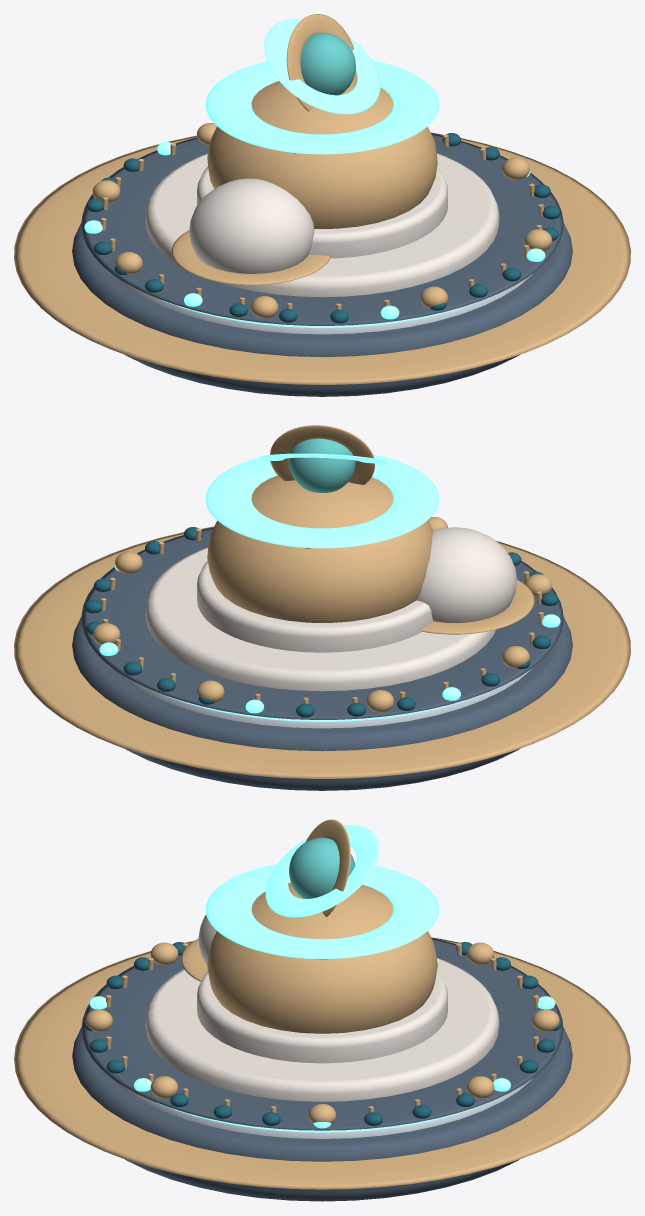
The model's file is central_hull.glb.
3 views of the same model, one above another, from view 1: azimuth 30°, elevation 25°; view 2: azimuth 150°, elevation 25°; view 3: azimuth 270°, elevation 25° (orthographic).
Visible parts, largest first — view 1: DISPLAY_02_03_•_Champagne_bronze, DISPLAY_03_04_•_Graphite_titanium, DISPLAY_04_02_•_Pearl_ivory, DISPLAY_01_11_•_Ion_emission_blue, DISPLAY_06_13_•_Cockpit_obsidian, DISPLAY_00_08_•_Jade_enamel, DISPLAY_05_01_•_Porcelain_silver; view 2: DISPLAY_02_03_•_Champagne_bronze, DISPLAY_03_04_•_Graphite_titanium, DISPLAY_04_02_•_Pearl_ivory, DISPLAY_01_11_•_Ion_emission_blue, DISPLAY_06_13_•_Cockpit_obsidian, DISPLAY_00_08_•_Jade_enamel, DISPLAY_05_01_•_Porcelain_silver; view 3: DISPLAY_02_03_•_Champagne_bronze, DISPLAY_03_04_•_Graphite_titanium, DISPLAY_04_02_•_Pearl_ivory, DISPLAY_01_11_•_Ion_emission_blue, DISPLAY_06_13_•_Cockpit_obsidian, DISPLAY_05_01_•_Porcelain_silver, DISPLAY_00_08_•_Jade_enamel.
Part boxes in pixels (x1,y1,x2,y2): DISPLAY_02_03_•_Champagne_bronze: (14,14,630,384); DISPLAY_03_04_•_Graphite_titanium: (72,133,572,396); DISPLAY_04_02_•_Pearl_ivory: (145,153,499,297); DISPLAY_01_11_•_Ion_emission_blue: (84,18,545,327); DISPLAY_06_13_•_Cockpit_obsidian: (86,133,560,323); DISPLAY_00_08_•_Jade_enamel: (300,33,355,95); DISPLAY_05_01_•_Porcelain_silver: (112,274,532,334); DISPLAY_02_03_•_Champagne_bronze: (14,425,630,778); DISPLAY_03_04_•_Graphite_titanium: (72,527,572,790); DISPLAY_04_02_•_Pearl_ivory: (145,527,516,691); DISPLAY_01_11_•_Ion_emission_blue: (99,453,560,721); DISPLAY_06_13_•_Cockpit_obsidian: (84,527,558,717); DISPLAY_00_08_•_Jade_enamel: (289,438,355,492); DISPLAY_05_01_•_Porcelain_silver: (112,668,532,728); DISPLAY_02_03_•_Champagne_bronze: (14,819,630,1189); DISPLAY_03_04_•_Graphite_titanium: (72,938,572,1201); DISPLAY_04_02_•_Pearl_ivory: (145,915,499,1101); DISPLAY_01_11_•_Ion_emission_blue: (89,825,555,1132); DISPLAY_06_13_•_Cockpit_obsidian: (84,942,560,1125); DISPLAY_05_01_•_Porcelain_silver: (113,1079,531,1138); DISPLAY_00_08_•_Jade_enamel: (289,837,355,898).
Bounding box in the file's own units: 4.23 × 2.07 × 4.22.
